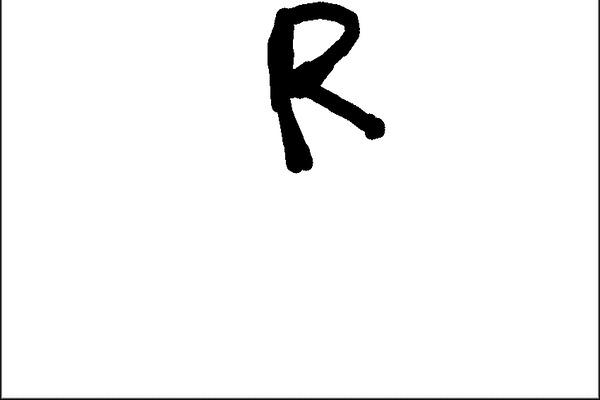R: (257, 0, 396, 180)
